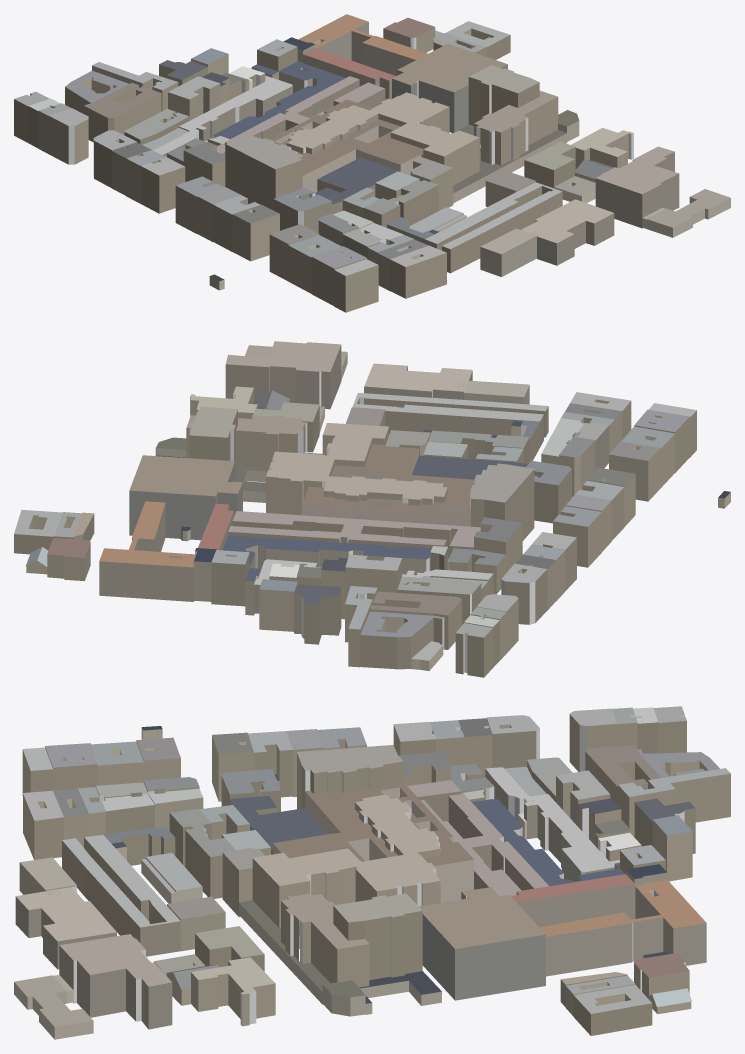
The picture shows the model from 3 angles, top to bottom: view 1: azimuth 30°, elevation 25°; view 2: azimuth 150°, elevation 25°; view 3: azimuth 270°, elevation 25°; orthographic projection. The views are drawn at different scales.
Parts seen in each view (by area): view 1: tuile; view 2: tuile; view 3: tuile.
Part boxes in pixels (x1,y1,x2,y2): tuile: (14,14,730,312); tuile: (14,341,730,677); tuile: (14,706,730,1039).
Bounding box in the file's own units: 265 × 33.27 × 275.
